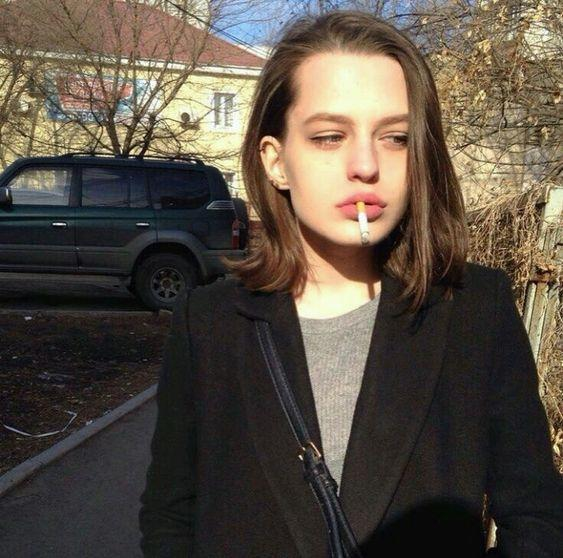cigarette: (356, 200, 369, 245)
